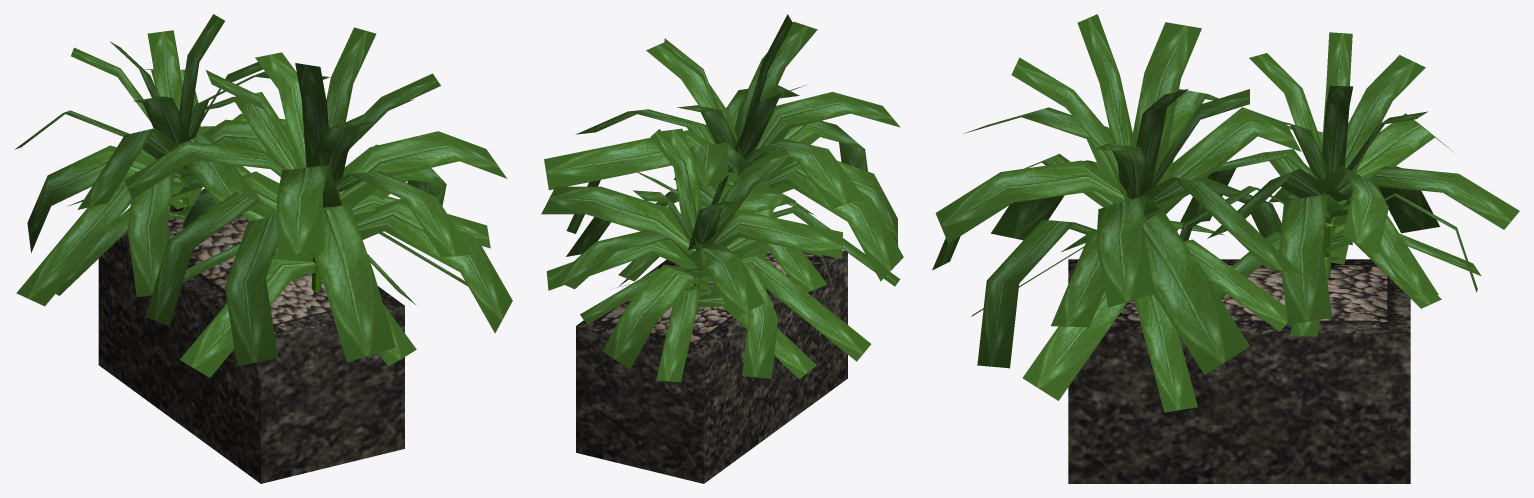
The model's file is Plant2.fbx.
The picture shows the model from 3 angles, left to right: view 1: azimuth 30°, elevation 25°; view 2: azimuth 150°, elevation 25°; view 3: azimuth 270°, elevation 25°; orthographic projection. The views are drawn at different scales.
Parts seen in each view (by area): view 1: Empty_Mesh; view 2: Empty_Mesh; view 3: Empty_Mesh.
Part boxes in pixels (x1,y1,x2,y2): Empty_Mesh: (15, 14, 512, 483); Empty_Mesh: (541, 14, 903, 483); Empty_Mesh: (932, 14, 1519, 483).
Size of the model in its own units: 154 by 149 by 189.
